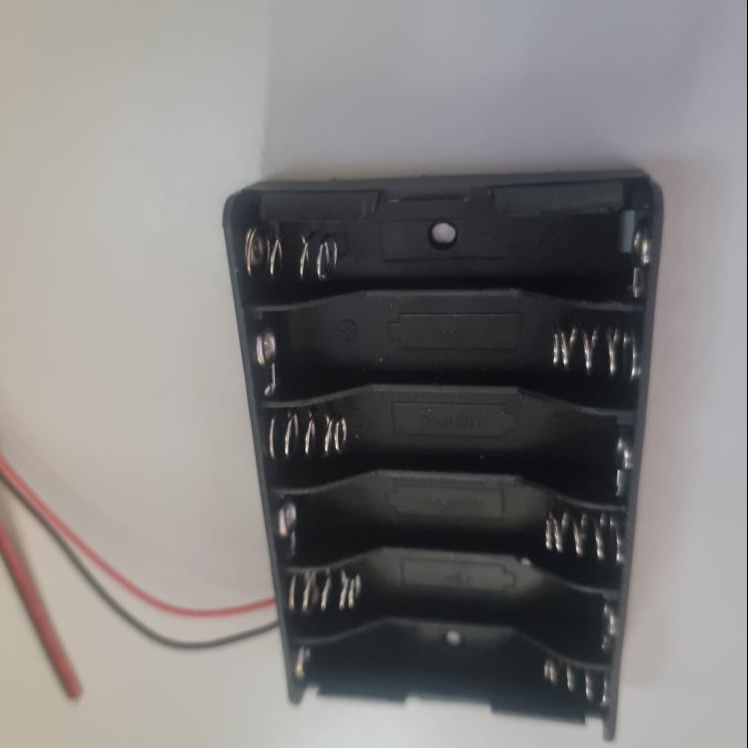BATTERY BOX: (214, 169, 665, 742)
